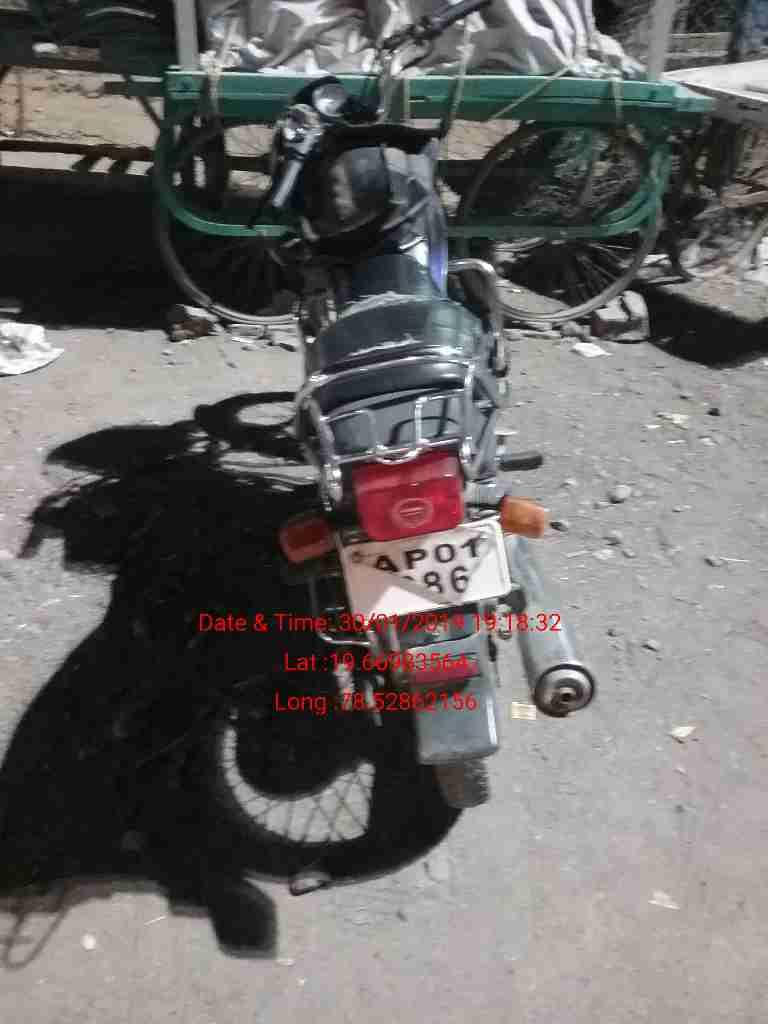plate: (343, 521, 521, 614)
